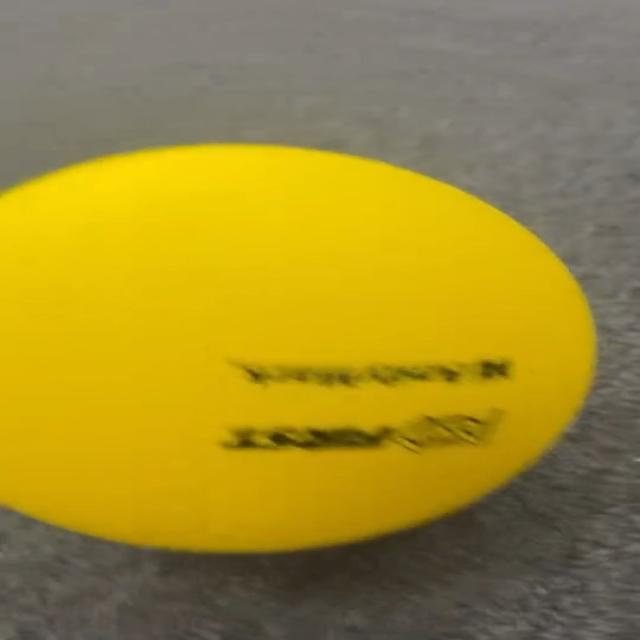Fuels: (4, 146, 595, 550)
